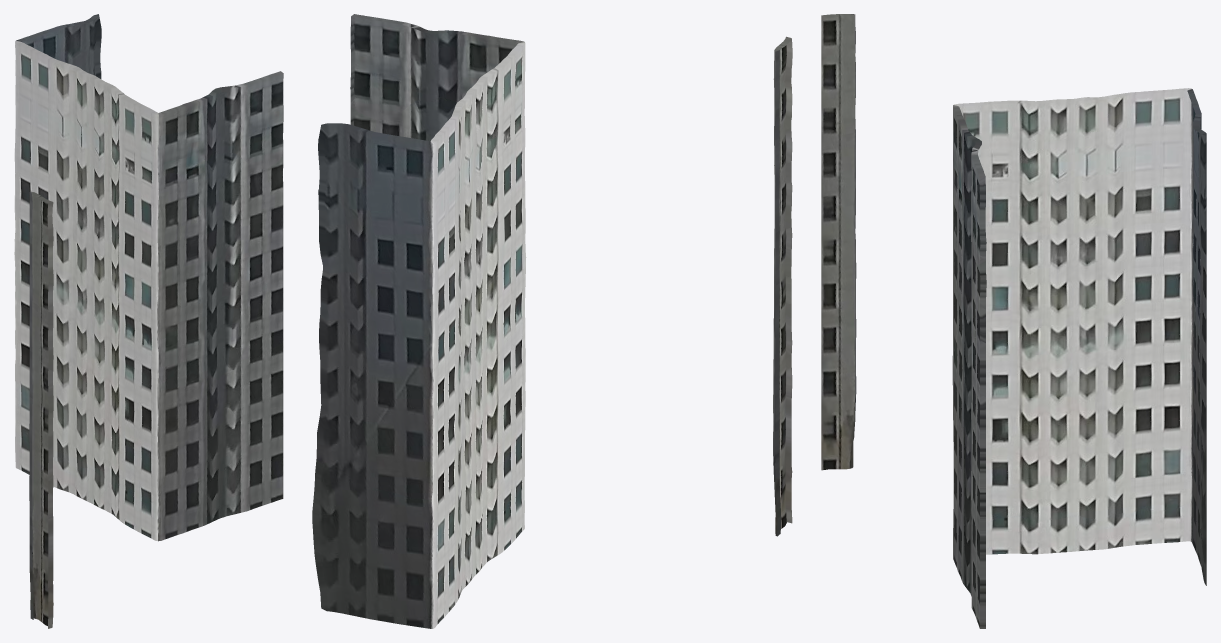
The model's file is z20-167771-405234-h1-yup-uvflip-v3-world.glb.
3 renders of one model, left to right at view 1: azimuth 30°, elevation 25°; view 2: azimuth 150°, elevation 25°; view 3: azimuth 270°, elevation 25°, orthographic. The views are drawn at different scales.
Size of the model in its own units: 30.2 by 39.32 by 30.32.
1 material, 1 textured.
